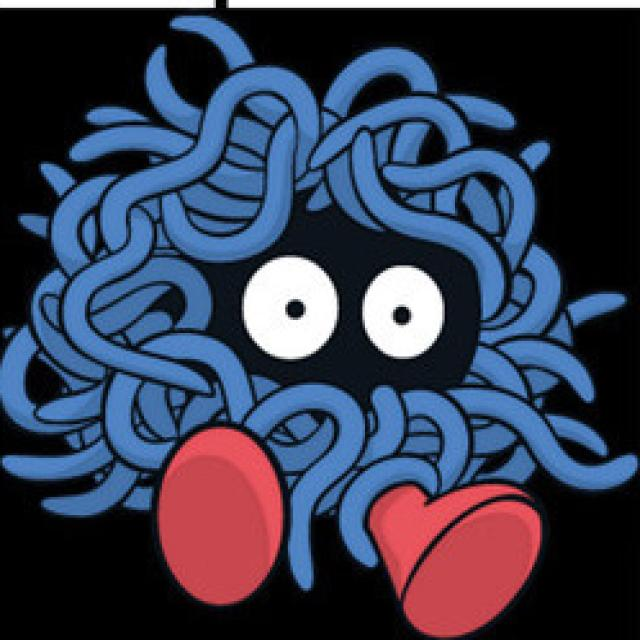Tangela: (0, 29, 620, 640)
